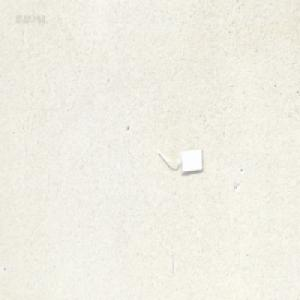LuggageTag: (155, 147, 203, 173)
